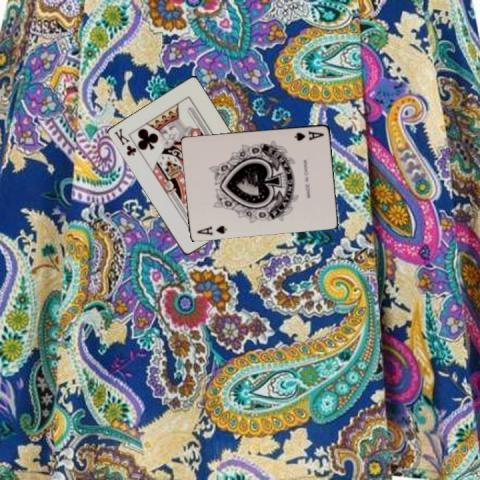As: (194, 222, 229, 236), (292, 128, 326, 142)
Kc: (112, 126, 138, 158)
